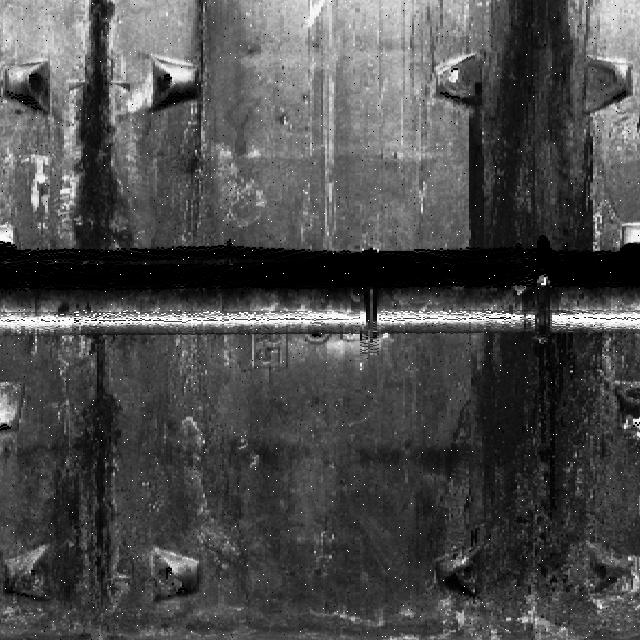leakage: (461, 332, 640, 640), (465, 3, 619, 254), (69, 337, 148, 628), (61, 1, 135, 254)
